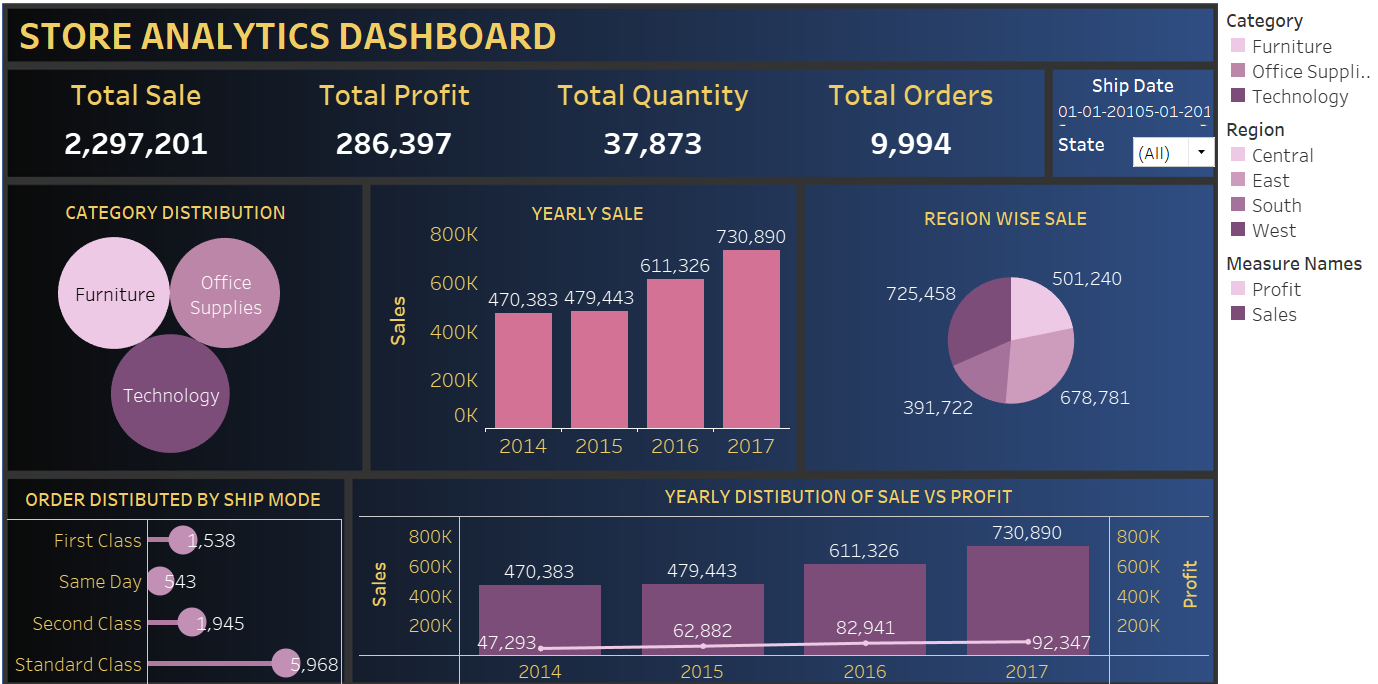

Layout of this report page (visuals, bound fields, positions):
{"tool":"tableau","page":{"name":"Dashboard 2","canvas":[1400,800],"ordinal":0},"visuals":[{"type":"image","param":"C:/Users/sriha/OneDrive/Desktop/Tableau/background.png","box":[8,8,1224,784]},{"type":"blank","box":[1232,8,160,50]},{"type":"legend","title":"Category wise sale","param":"[federated.0qy8tz40ft911b1gwrw9p00r5uxd].[none:Category:nk]","box":[1232,58,160,109]},{"type":"text","box":[25,63,554,53]},{"type":"filter","title":"Region wise sale","param":"[federated.0qy8tz40ft911b1gwrw9p00r5uxd].[none:Ship Date:qk]","box":[1063,127,160,54]},{"type":"worksheet","title":"KPIs","mark":"Automatic","box":[17,128,1033,98]},{"type":"legend","title":"Region wise sale","param":"[federated.0qy8tz40ft911b1gwrw9p00r5uxd].[none:Region:nk]","box":[1232,167,160,134]},{"type":"filter","title":"Yearly sale","param":"[federated.0qy8tz40ft911b1gwrw9p00r5uxd].[none:State:nk]","box":[1068,189,160,40]},{"type":"text","box":[67,238,237,58]},{"type":"text","box":[479,239,237,58]},{"type":"text","box":[897,244,237,58]},{"type":"worksheet","title":"Region wise sale","mark":"Pie","box":[821,269,400,253]},{"type":"worksheet","title":"Yearly sale","mark":"Bar","rows":["Sales"],"cols":["Ship Date"],"box":[386,271,414,244]},{"type":"worksheet","title":"Category wise sale","mark":"Circle","box":[68,289,334,222]},{"type":"legend","title":"Yearly Sales vs Profit","param":"[federated.0qy8tz40ft911b1gwrw9p00r5uxd].[:Measure Names]","box":[1232,301,160,84]},{"type":"text","box":[600,522,497,58]},{"type":"text","box":[31,525,303,58]},{"type":"worksheet","title":"Yearly Sales vs Profit","mark":"Automatic","rows":["Sales","Profit"],"cols":["Ship Date"],"box":[369,571,851,169]},{"type":"worksheet","title":"Ship Mode","mark":"Automatic","rows":["Ship Mode"],"cols":["Order ID","Order ID"],"box":[17,574,335,166]}]}

Visuals, with their boxes on the page's 1400x800 design canvas (x1, y1, x2, y2). These are canvas units, not pixel positions in the 1378x684 screenshot, which may show the page scaled, cropped or inside an application window:
image: <region>8, 8, 1232, 792</region>
blank: <region>1232, 8, 1392, 58</region>
"Category wise sale" legend: <region>1232, 58, 1392, 167</region>
text: <region>25, 63, 579, 116</region>
"Region wise sale" filter: <region>1063, 127, 1223, 181</region>
"KPIs" worksheet: <region>17, 128, 1050, 226</region>
"Region wise sale" legend: <region>1232, 167, 1392, 301</region>
"Yearly sale" filter: <region>1068, 189, 1228, 229</region>
text: <region>67, 238, 304, 296</region>
text: <region>479, 239, 716, 297</region>
text: <region>897, 244, 1134, 302</region>
"Region wise sale" worksheet (Pie marks): <region>821, 269, 1221, 522</region>
"Yearly sale" worksheet (Bar marks): <region>386, 271, 800, 515</region>
"Category wise sale" worksheet (Circle marks): <region>68, 289, 402, 511</region>
"Yearly Sales vs Profit" legend: <region>1232, 301, 1392, 385</region>
text: <region>600, 522, 1097, 580</region>
text: <region>31, 525, 334, 583</region>
"Yearly Sales vs Profit" worksheet: <region>369, 571, 1220, 740</region>
"Ship Mode" worksheet: <region>17, 574, 352, 740</region>
